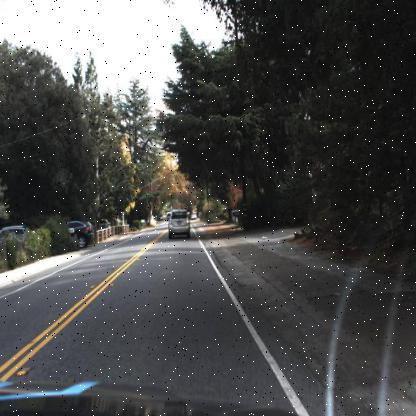car: (63, 216, 96, 251), (166, 202, 193, 235), (68, 219, 94, 247)
